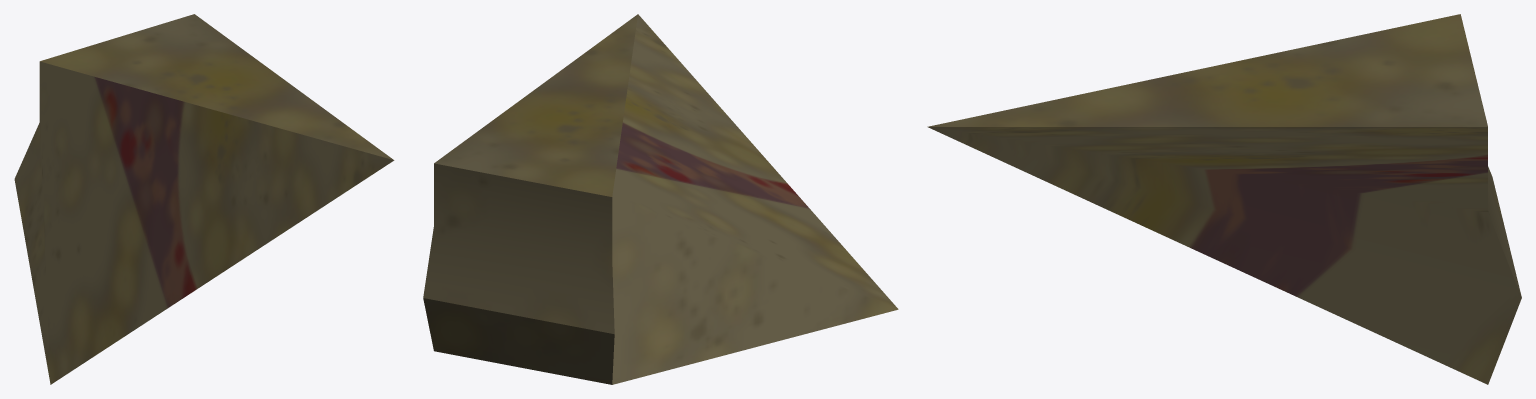
The model's file is ishi_02_10_9.fbx.
3 renders of one model, left to right at view 1: azimuth 30°, elevation 25°; view 2: azimuth 150°, elevation 25°; view 3: azimuth 270°, elevation 25°, orthographic. The views are drawn at different scales.
Parts seen in each view (by area): view 1: polySurface37; view 2: polySurface37; view 3: polySurface37.
Boxes of the visible parts, x1,y1,x2,y2 form: polySurface37: [14, 14, 394, 384]; polySurface37: [423, 14, 898, 384]; polySurface37: [927, 14, 1521, 384].
Bounding box in the file's own units: 6.57 × 3.85 × 8.05.
Materials: 1 (1 with a texture image).
